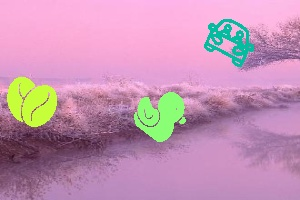两网球: (7, 76, 58, 127)
汽车: (205, 17, 254, 66)
鸭子: (133, 92, 187, 142)
